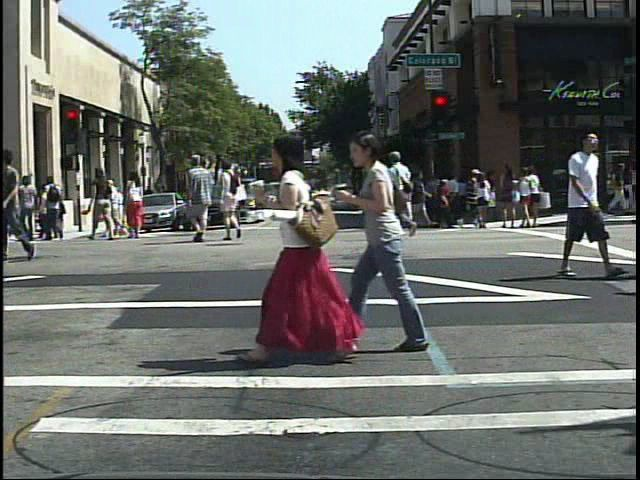person: (243, 129, 353, 369), (351, 122, 441, 357), (545, 124, 621, 282), (1, 143, 38, 263), (386, 147, 423, 245), (181, 151, 219, 245), (215, 155, 244, 245), (89, 165, 119, 245), (15, 170, 42, 246), (122, 167, 148, 241), (41, 173, 64, 244), (473, 167, 495, 229), (463, 163, 482, 230)
